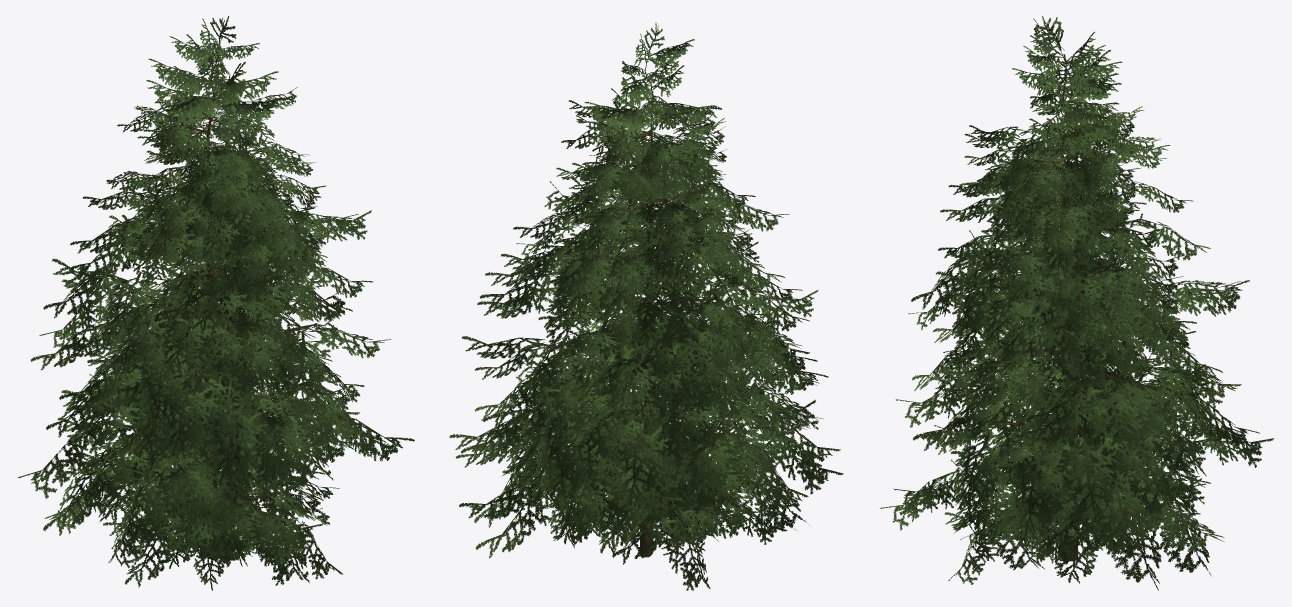
Rendered from baum_fichte_6_lod0.glb.
3 views of the same model, side by side, from view 1: azimuth 30°, elevation 25°; view 2: azimuth 150°, elevation 25°; view 3: azimuth 270°, elevation 25° (orthographic). The views are drawn at different scales.
Parts seen in each view (by area): view 1: Krone, Stamm; view 2: Krone, Stamm; view 3: Krone, Stamm.
Boxes of the visible parts, x1,y1,x2,y2 form: Krone: (17,16,414,590); Stamm: (109,45,320,559); Krone: (449,22,843,590); Stamm: (545,57,757,557); Krone: (880,16,1274,590); Stamm: (960,50,1173,561).
Size of the model in its own units: 9.6 by 14 by 9.33.
Materials: 2 (2 with a texture image).
